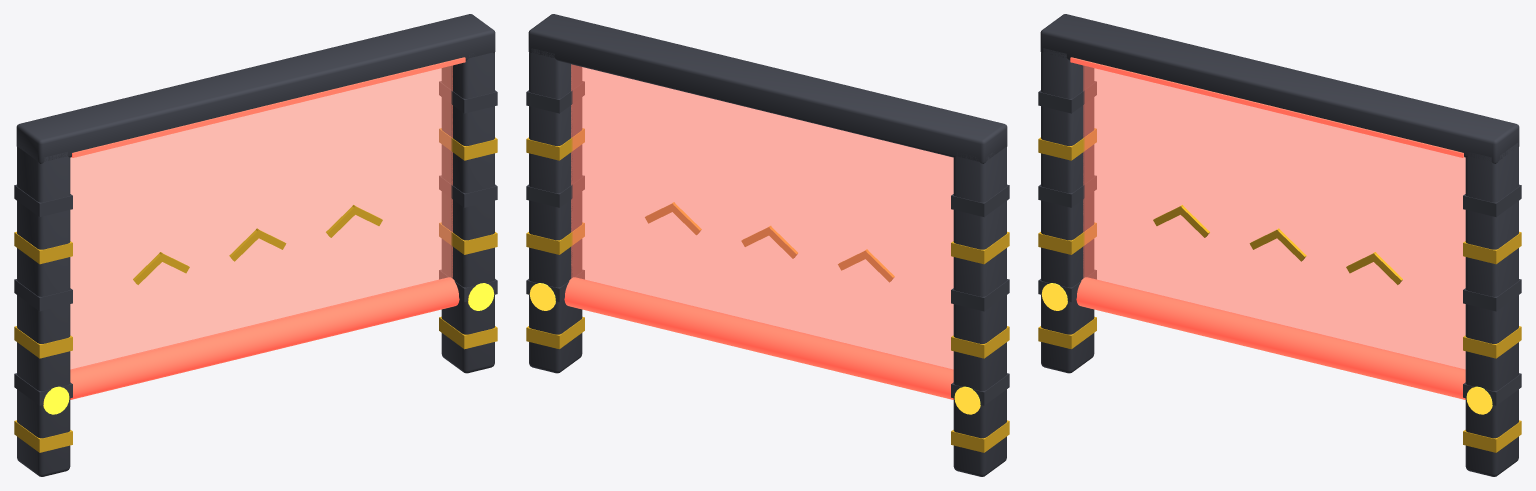
The model's file is gate.glb.
3 views of the same model, side by side, from view 1: azimuth 30°, elevation 25°; view 2: azimuth 150°, elevation 25°; view 3: azimuth 330°, elevation 25° (orthographic).
Visible parts, largest first — view 1: Gate; view 2: Gate; view 3: Gate.
Part boxes in pixels (x1=…): Gate: x1=14, y1=14, x2=497, y2=476; Gate: x1=526, y1=14, x2=1009, y2=476; Gate: x1=1038, y1=14, x2=1521, y2=476.
Bounding box in the file's own units: 4.27 × 3.01 × 0.425.
